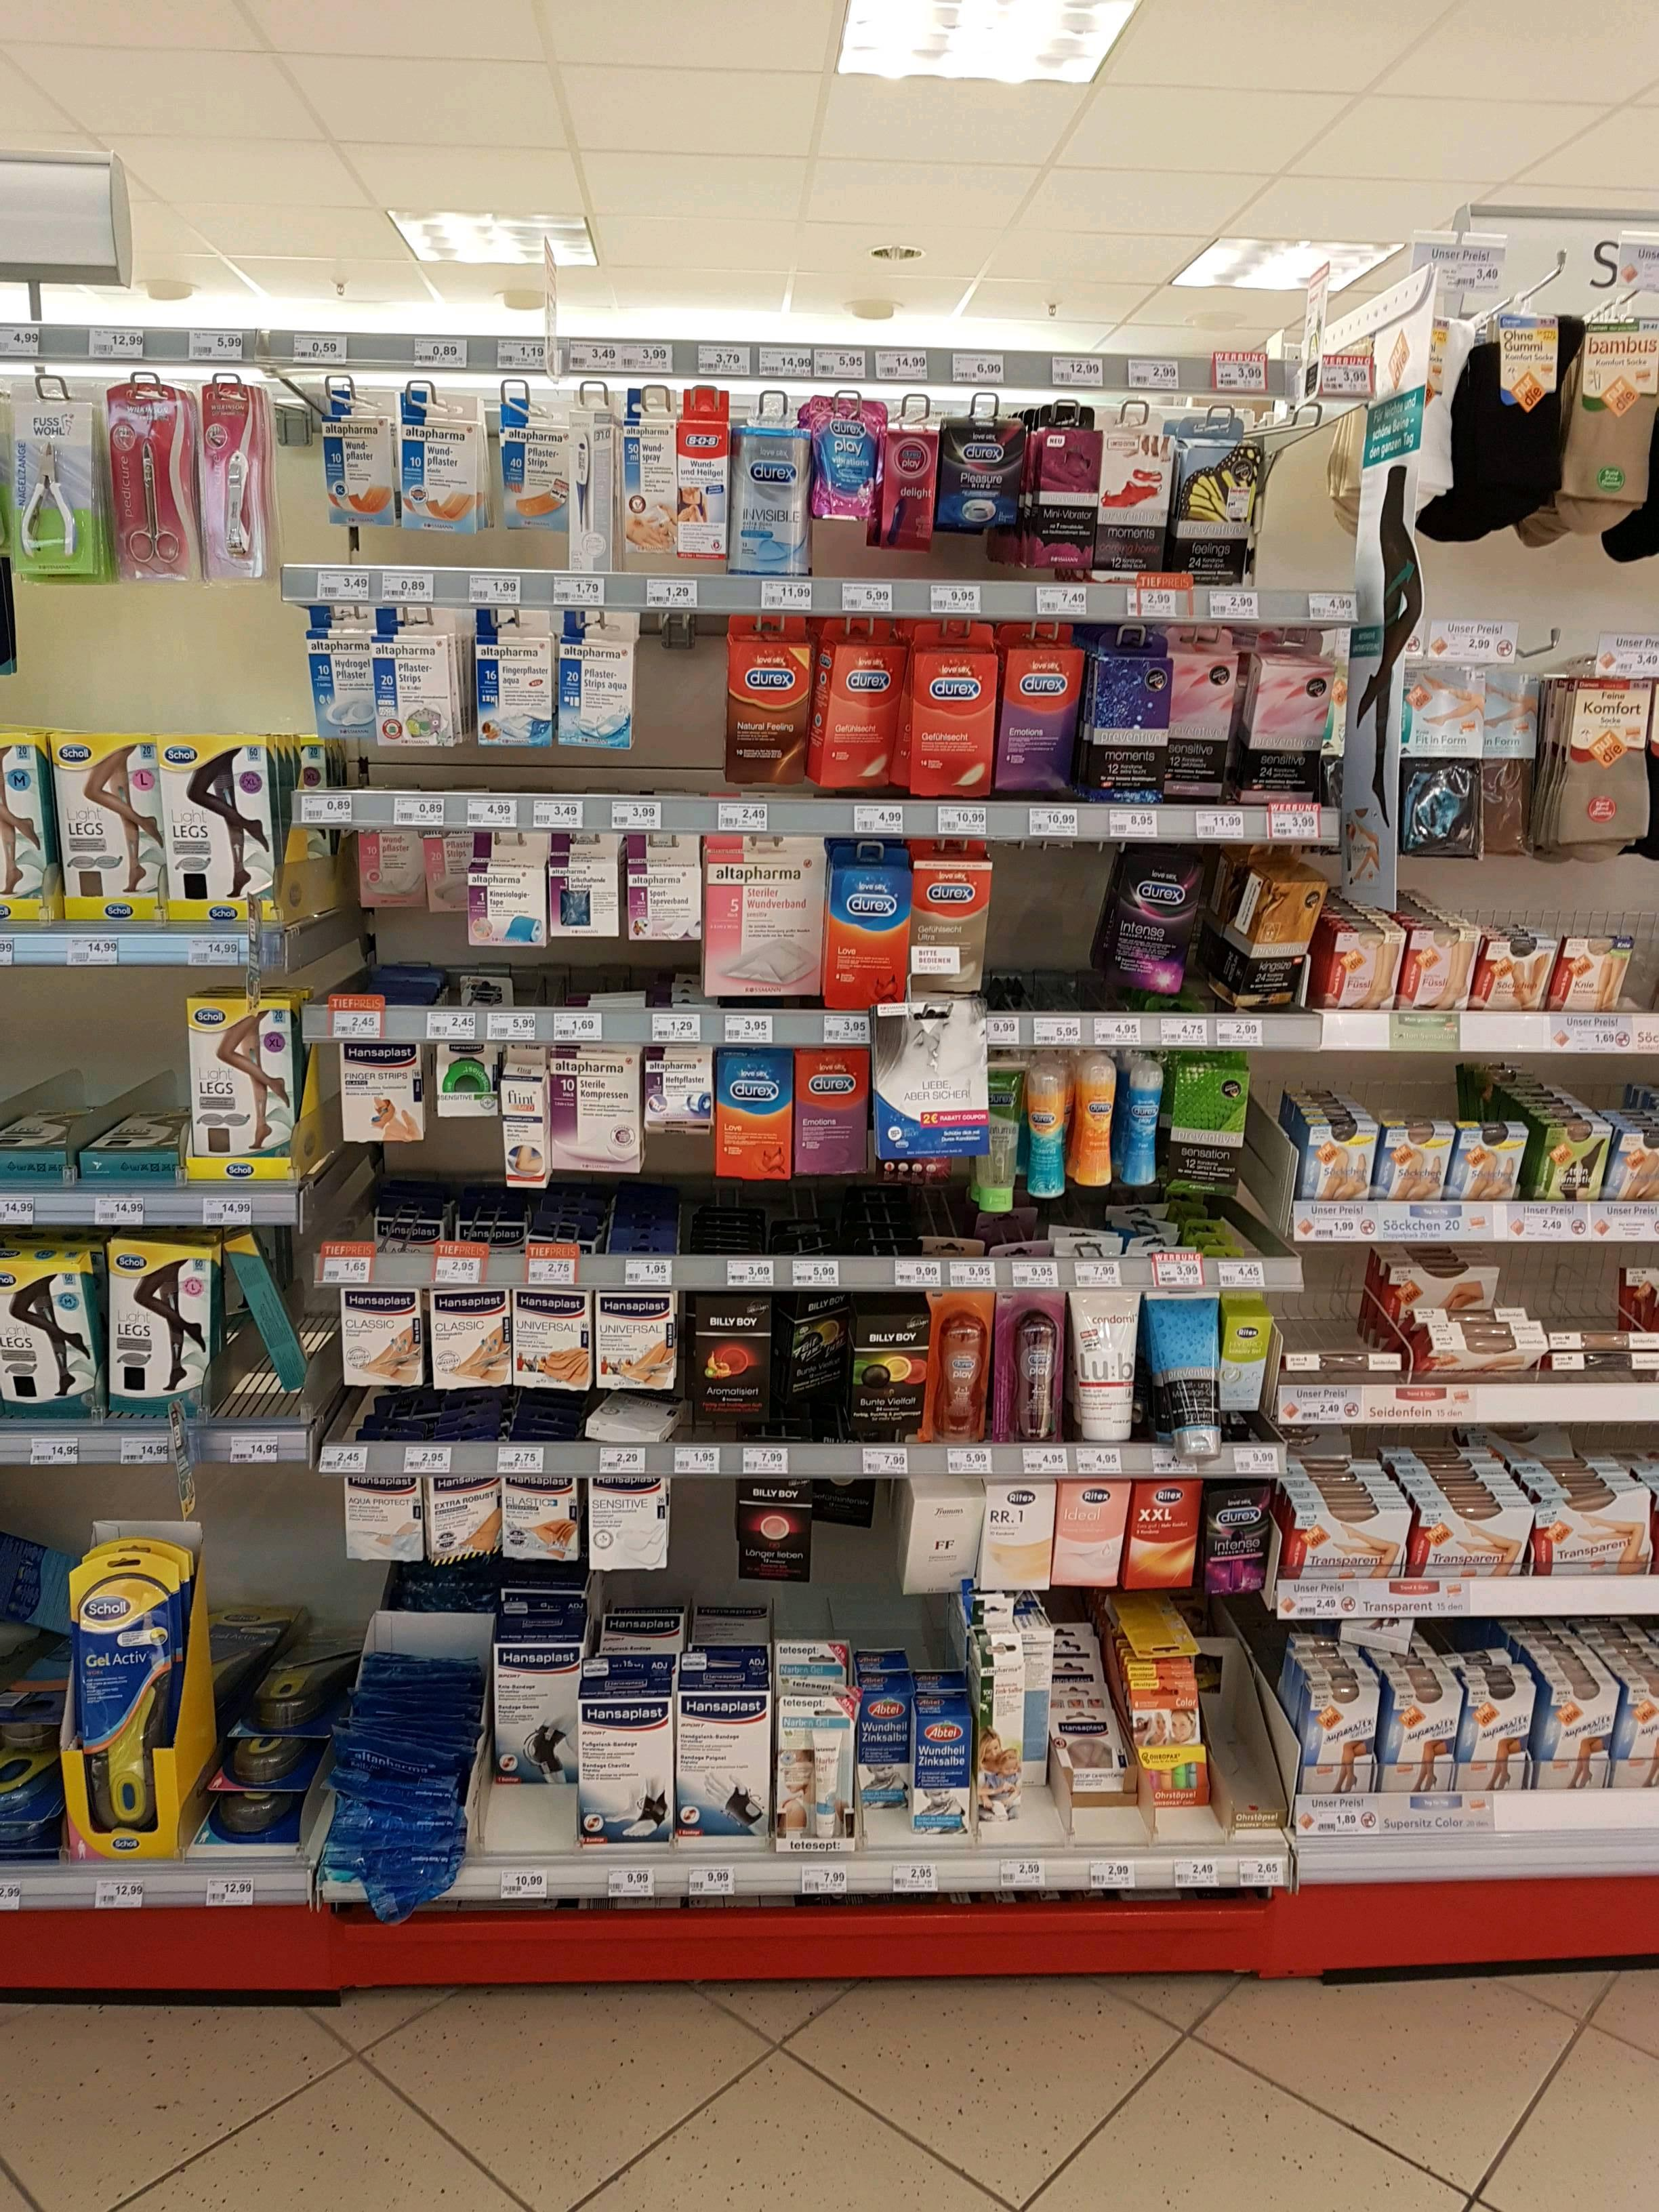empty: (1213, 1604, 1269, 1824), (1265, 416, 1335, 575), (1006, 843, 1082, 979), (650, 613, 714, 765)
misalignment: (319, 1634, 481, 1895), (1290, 1296, 1659, 1386), (221, 1231, 314, 1414), (3, 1101, 188, 1179)
